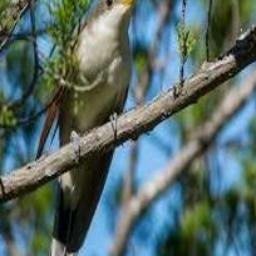Cuckoo: (34, 0, 144, 256)
